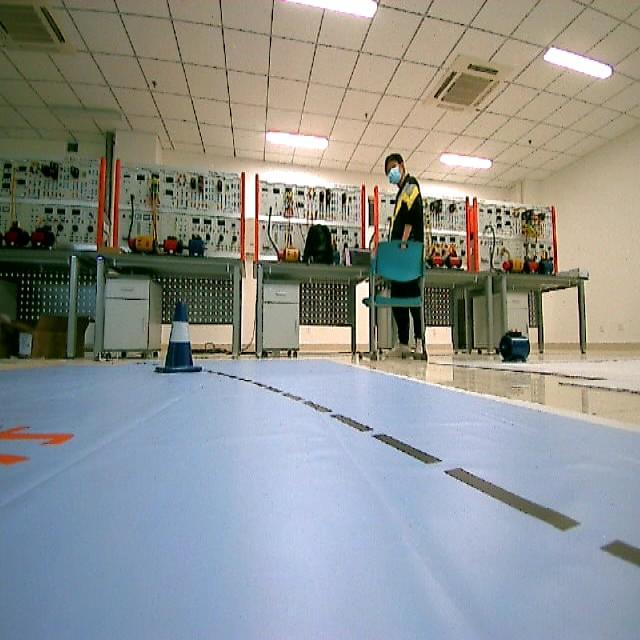obstacle: (154, 304, 206, 381)
